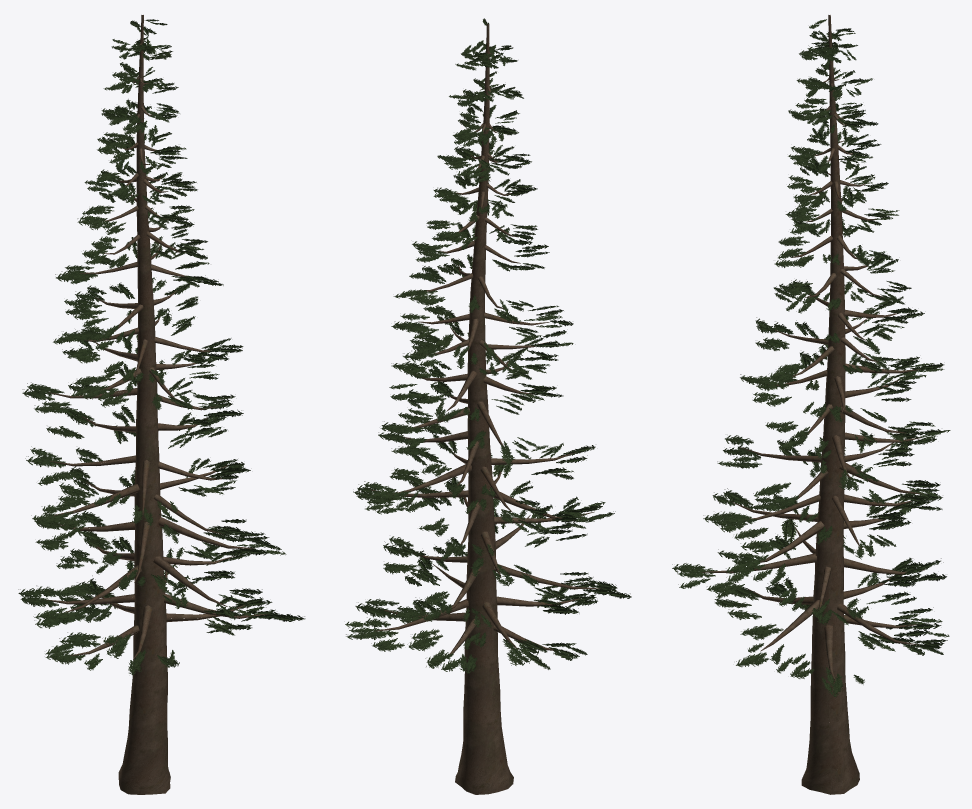
File: pine_tree_002_v4_a_LOD2.gltf
The picture shows the model from 3 angles, left to right: view 1: azimuth 30°, elevation 25°; view 2: azimuth 150°, elevation 25°; view 3: azimuth 270°, elevation 25°; orthographic projection.
Parts seen in each view (by area): view 1: pine_tree_002_v4_a_LOD2; view 2: pine_tree_002_v4_a_LOD2; view 3: pine_tree_002_v4_a_LOD2.
Part boxes in pixels (x1,y1,x2,y2): pine_tree_002_v4_a_LOD2: (18, 15, 305, 794); pine_tree_002_v4_a_LOD2: (345, 18, 631, 794); pine_tree_002_v4_a_LOD2: (672, 15, 950, 794).
Size of the model in its own units: 8.13 by 22.59 by 7.69.
Materials: 2 (2 with a texture image).
